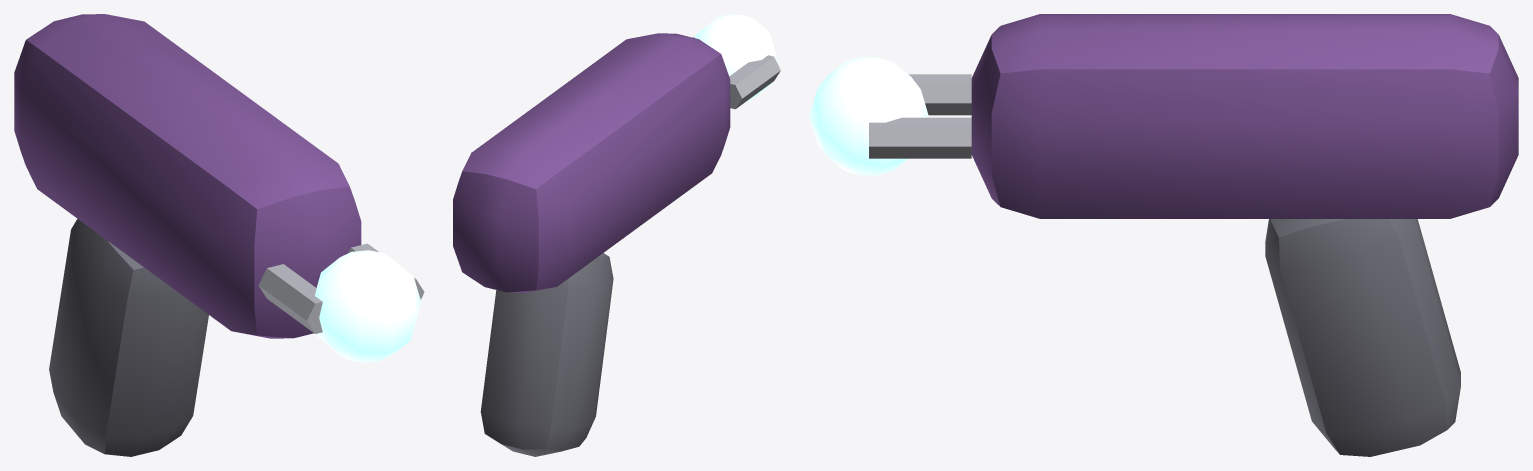
File: ITEM_StunGun.fbx
The picture shows the model from 3 angles, left to right: view 1: azimuth 30°, elevation 25°; view 2: azimuth 150°, elevation 25°; view 3: azimuth 270°, elevation 25°; orthographic projection. The views are drawn at different scales.
Visible parts, largest first — view 1: ITEM_StunGun; view 2: ITEM_StunGun; view 3: ITEM_StunGun.
Boxes of the visible parts, x1=… form: ITEM_StunGun: x1=14, y1=14, x2=424, y2=456; ITEM_StunGun: x1=453, y1=14, x2=780, y2=456; ITEM_StunGun: x1=809, y1=14, x2=1518, y2=456.
Bounding box in the file's own units: 0.1 × 0.2737 × 0.415.
